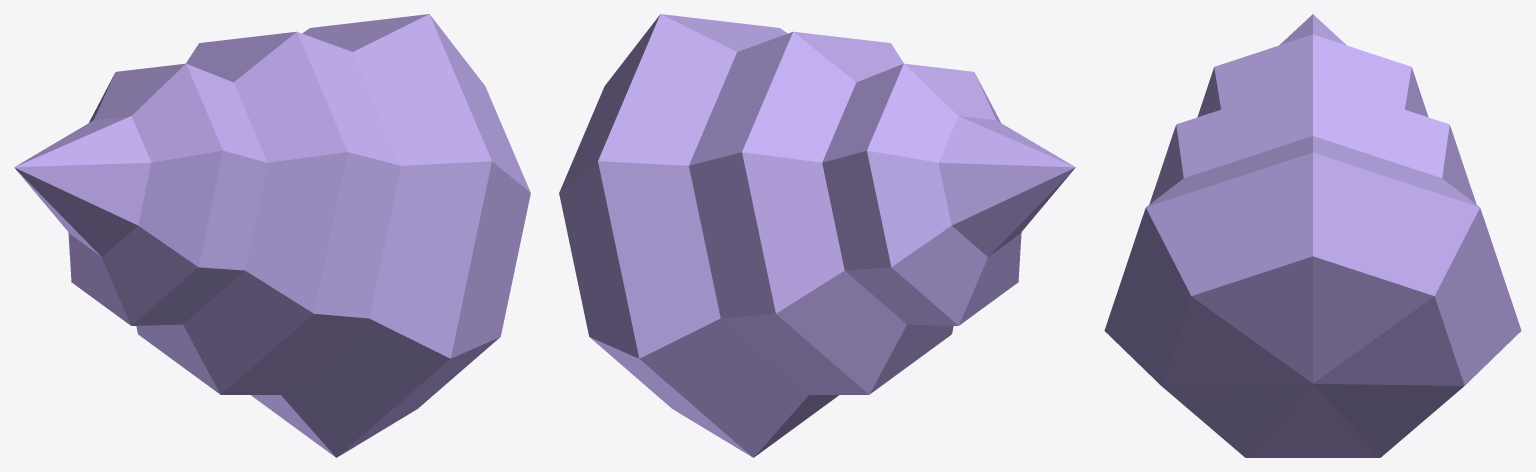
Rendered from deco_conch.obj.
3 renders of one model, left to right at view 1: azimuth 30°, elevation 25°; view 2: azimuth 150°, elevation 25°; view 3: azimuth 270°, elevation 25°, orthographic. The views are drawn at different scales.
Visible parts, largest first — view 1: deco_conch; view 2: deco_conch; view 3: deco_conch.
Boxes of the visible parts, x1,y1,x2,y2 form: deco_conch: (14,14,530,457); deco_conch: (559,14,1075,457); deco_conch: (1104,14,1521,457).
Size of the model in its own units: 0.0514 by 0.0403 by 0.0429.
Materials: 1 (1 with a texture image).
